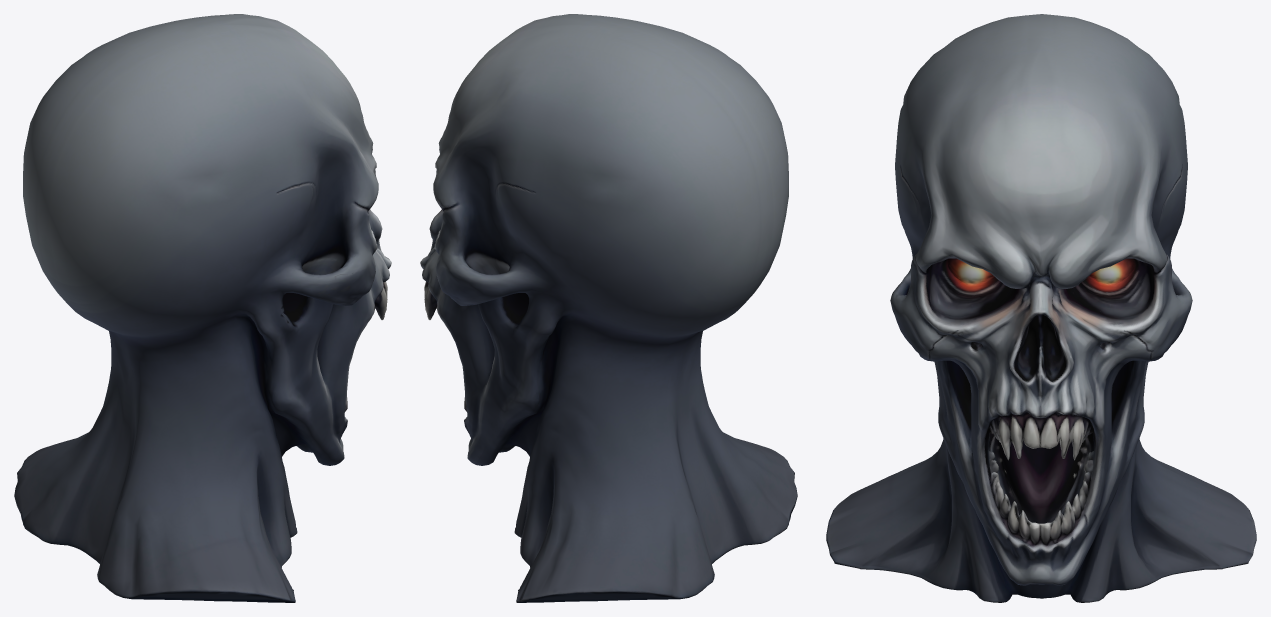
Rendered from ShadowJumpscare.fbx.
3 views of the same model, side by side, from view 1: azimuth 30°, elevation 25°; view 2: azimuth 150°, elevation 25°; view 3: azimuth 270°, elevation 25° (orthographic). The views are drawn at different scales.
Visible parts, largest first — view 1: tripo_node_337afbf3-6df8-4983-a441-8f9faebcaa5e; view 2: tripo_node_337afbf3-6df8-4983-a441-8f9faebcaa5e; view 3: tripo_node_337afbf3-6df8-4983-a441-8f9faebcaa5e.
Part boxes in pixels (<box>): tripo_node_337afbf3-6df8-4983-a441-8f9faebcaa5e: <box>14,14,391,602</box>; tripo_node_337afbf3-6df8-4983-a441-8f9faebcaa5e: <box>420,14,797,602</box>; tripo_node_337afbf3-6df8-4983-a441-8f9faebcaa5e: <box>826,14,1256,602</box>.
Bounding box in the file's own units: 70.65 × 100 × 73.78.
Materials: 1 (1 with a texture image).
